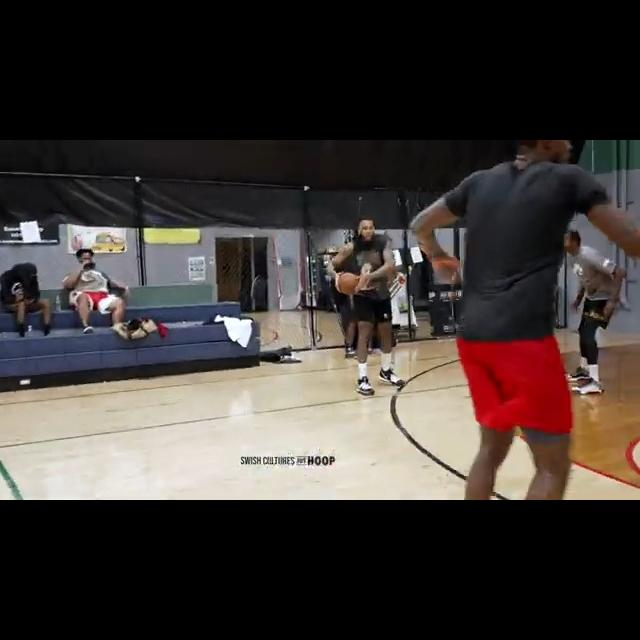basketball: (337, 273, 359, 294)
person: (411, 140, 640, 500), (331, 215, 414, 396), (561, 228, 627, 399), (61, 249, 131, 336), (0, 263, 54, 336)
